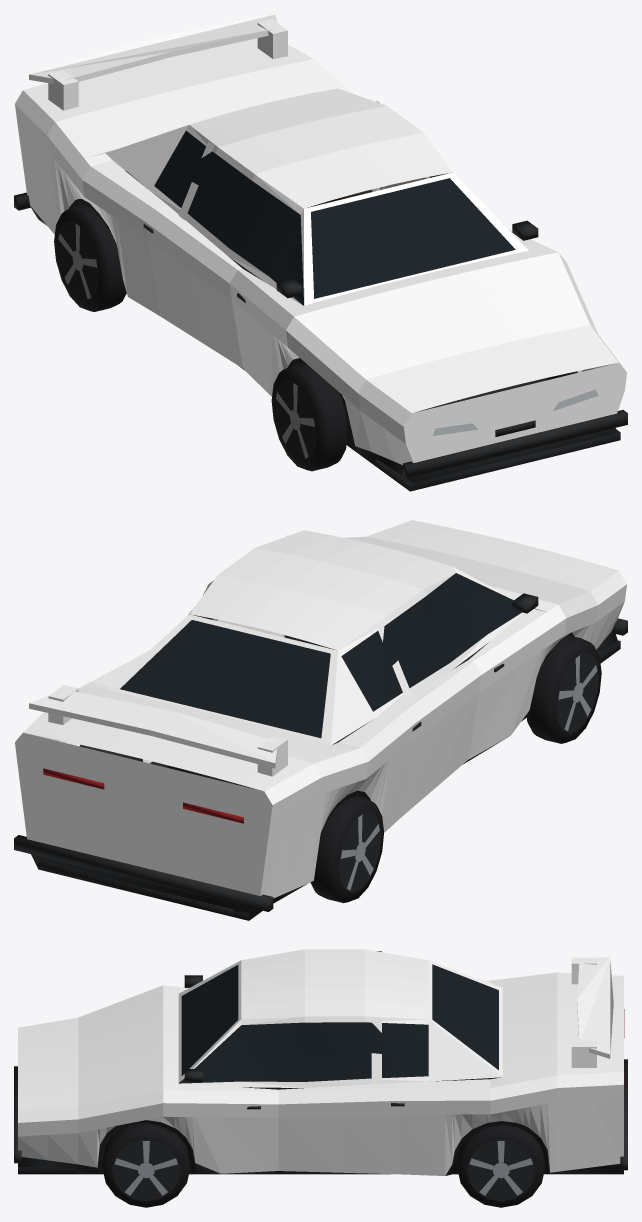
File: sanga_estopim.glb
3 renders of one model, top to bottom at view 1: azimuth 30°, elevation 25°; view 2: azimuth 150°, elevation 25°; view 3: azimuth 270°, elevation 25°, orthographic. The views are drawn at different scales.
Visible parts, largest first — view 1: Body_Paint, Body_Details, Mount_FrontLeft_Wheel_Details, Mount_RearLeft_Wheel_Details; view 2: Body_Paint, Body_Details, Mount_FrontLeft_Wheel_Details, Mount_RearLeft_Wheel_Details; view 3: Body_Paint, Body_Details, Mount_FrontRight_Wheel_Details, Mount_RearRight_Wheel_Details.
Part boxes in pixels (x1,y1,x2,y2): Body_Paint: (15, 14, 626, 464); Body_Details: (14, 131, 627, 491); Mount_FrontLeft_Wheel_Details: (271, 363, 347, 471); Mount_RearLeft_Wheel_Details: (54, 204, 126, 311); Body_Paint: (15, 520, 626, 898); Body_Details: (14, 573, 627, 920); Mount_FrontLeft_Wheel_Details: (526, 635, 601, 743); Mount_RearLeft_Wheel_Details: (310, 796, 383, 903); Body_Paint: (18, 949, 623, 1175); Body_Details: (14, 964, 627, 1175); Mount_FrontRight_Wheel_Details: (102, 1122, 190, 1207); Mount_RearRight_Wheel_Details: (457, 1125, 545, 1207).
Bounding box in the file's own units: 1.93 × 1.37 × 4.39.
2 materials, 1 textured.
